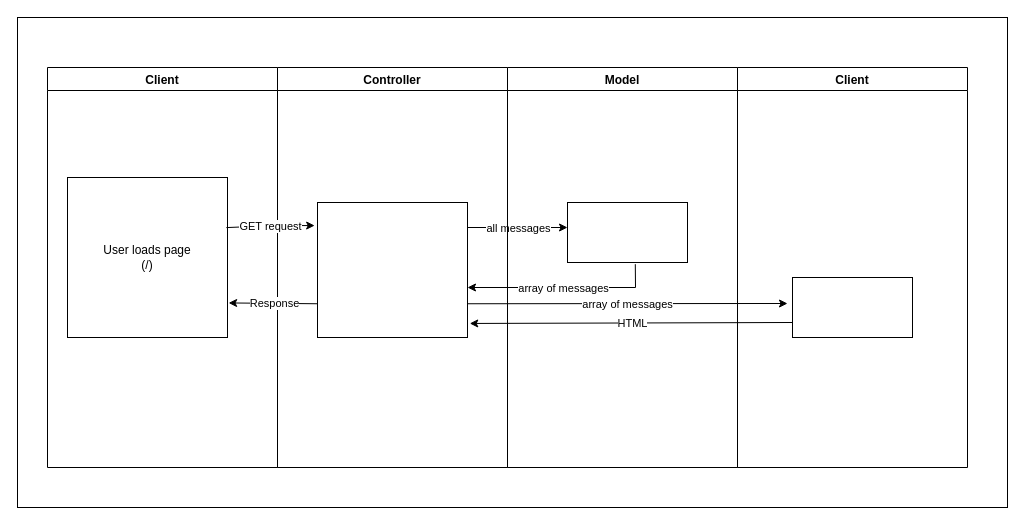
Image size: 1025x525. Some labels were removed from this diagram. The centre of each missing label's shape, as x and y in pixels:
app.rb: the point at 392,270
messages: the point at 627,232
views (message.erb): the point at 852,307
